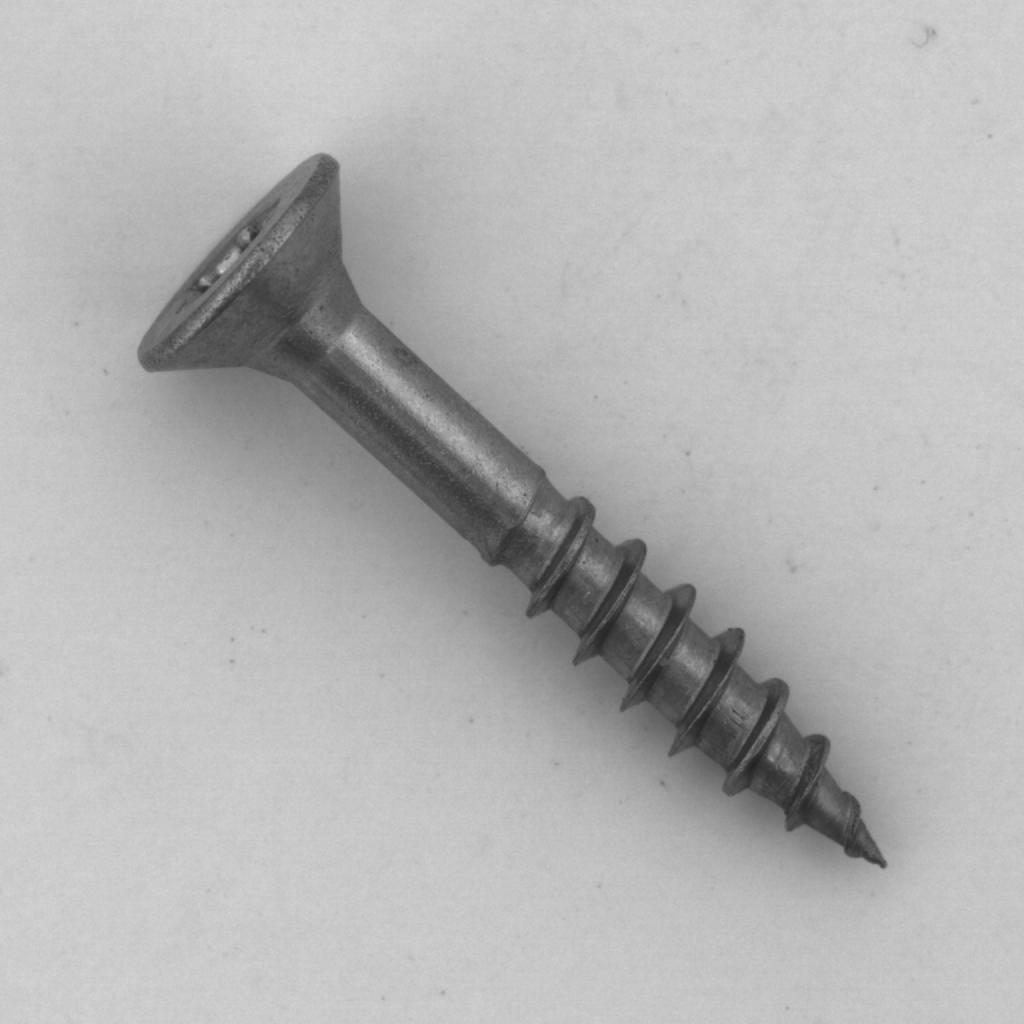good: (117, 139, 903, 883)
